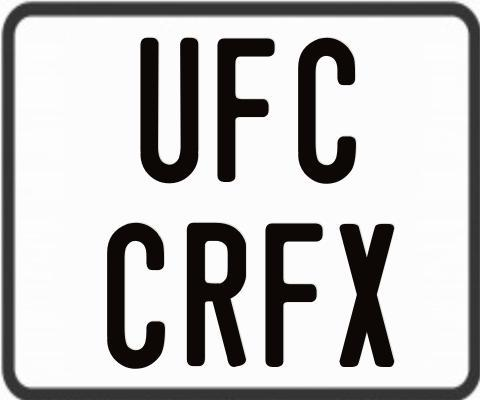C: (297, 35, 359, 186), (104, 223, 165, 372)
F: (216, 38, 280, 188), (265, 221, 325, 368)
R: (185, 220, 247, 365)
U: (140, 38, 201, 186)
X: (340, 224, 400, 367)
